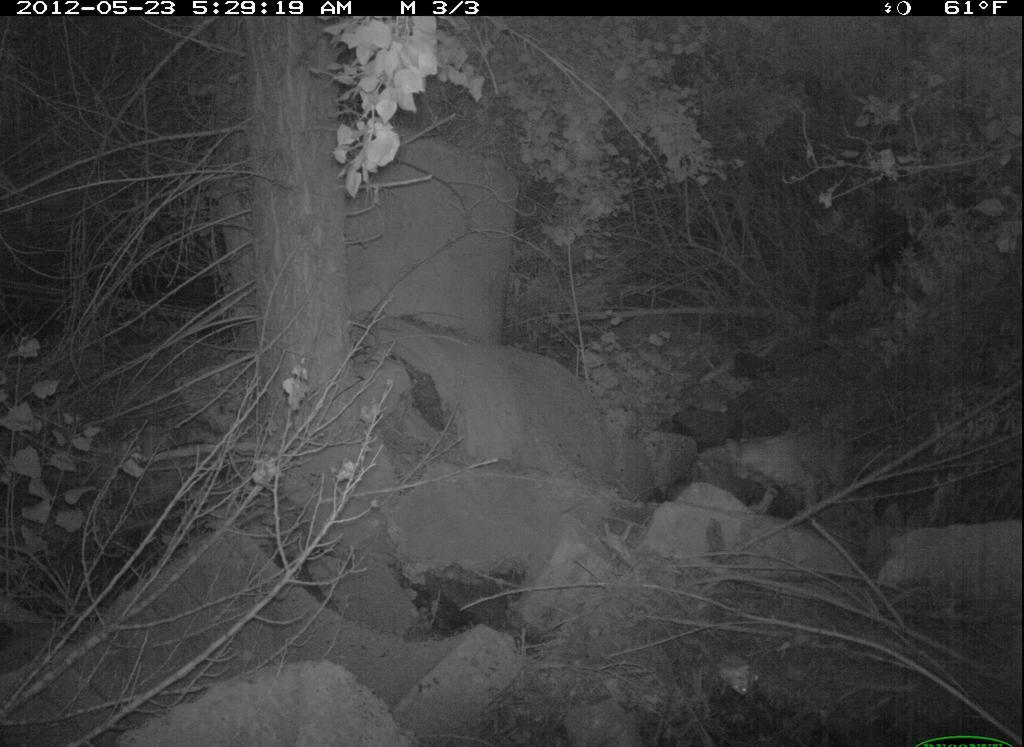bobcat: (716, 409, 876, 536)
